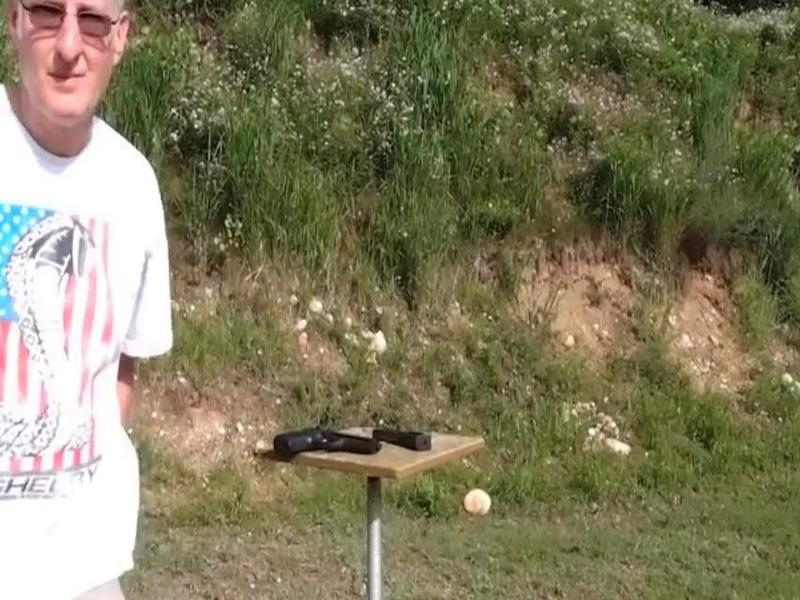Pistola: (247, 414, 387, 494)
